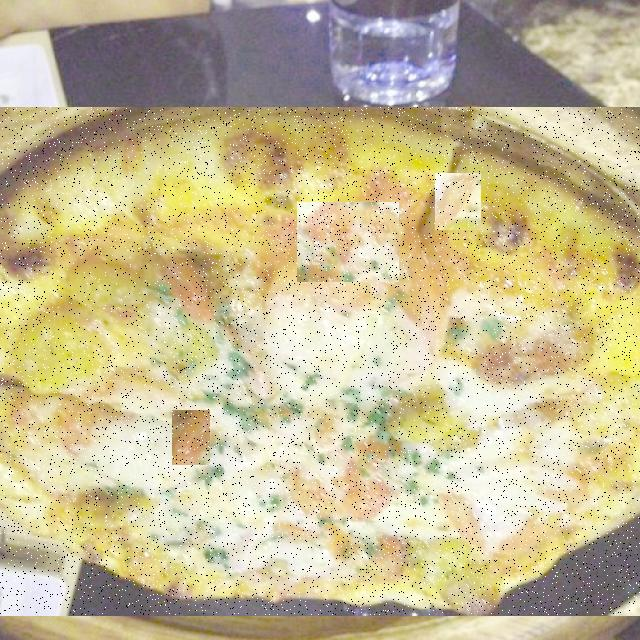Pizza: (0, 108, 640, 615)
Tomato: (268, 337, 449, 479), (61, 257, 168, 351), (297, 203, 399, 282), (435, 174, 481, 230), (172, 411, 210, 465)
